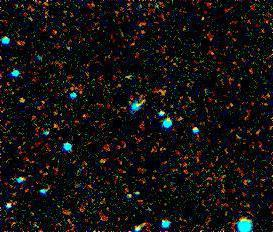star: (5, 86, 35, 116)
